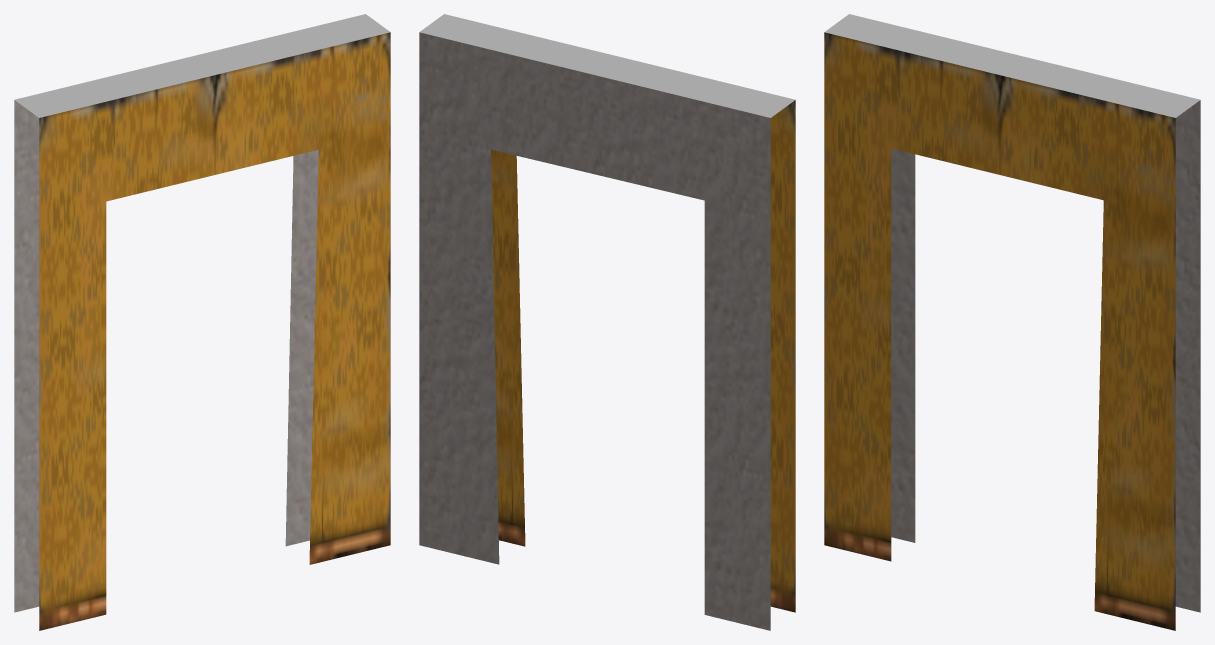
File: W_I3_o [Gelb-Marmor]_1360.glb
The picture shows the model from 3 angles, left to right: view 1: azimuth 30°, elevation 25°; view 2: azimuth 150°, elevation 25°; view 3: azimuth 330°, elevation 25°; orthographic projection.
Parts seen in each view (by area): view 1: pPlaneShape2, pPlaneShape3, pPlaneShape1; view 2: pPlaneShape3, pPlaneShape2, pPlaneShape1; view 3: pPlaneShape2, pPlaneShape3, pPlaneShape1.
Part boxes in pixels (x1,y1,x2,y2): pPlaneShape2: (39, 32, 390, 630); pPlaneShape3: (14, 100, 318, 612); pPlaneShape1: (14, 14, 390, 117); pPlaneShape3: (419, 32, 770, 630); pPlaneShape2: (491, 100, 795, 612); pPlaneShape1: (419, 14, 795, 117); pPlaneShape2: (824, 32, 1175, 630); pPlaneShape3: (891, 100, 1200, 612); pPlaneShape1: (824, 14, 1200, 117).
Bounding box in the file's own units: 0.25 × 0.3486 × 0.0308.
Materials: 3 (2 with a texture image).
